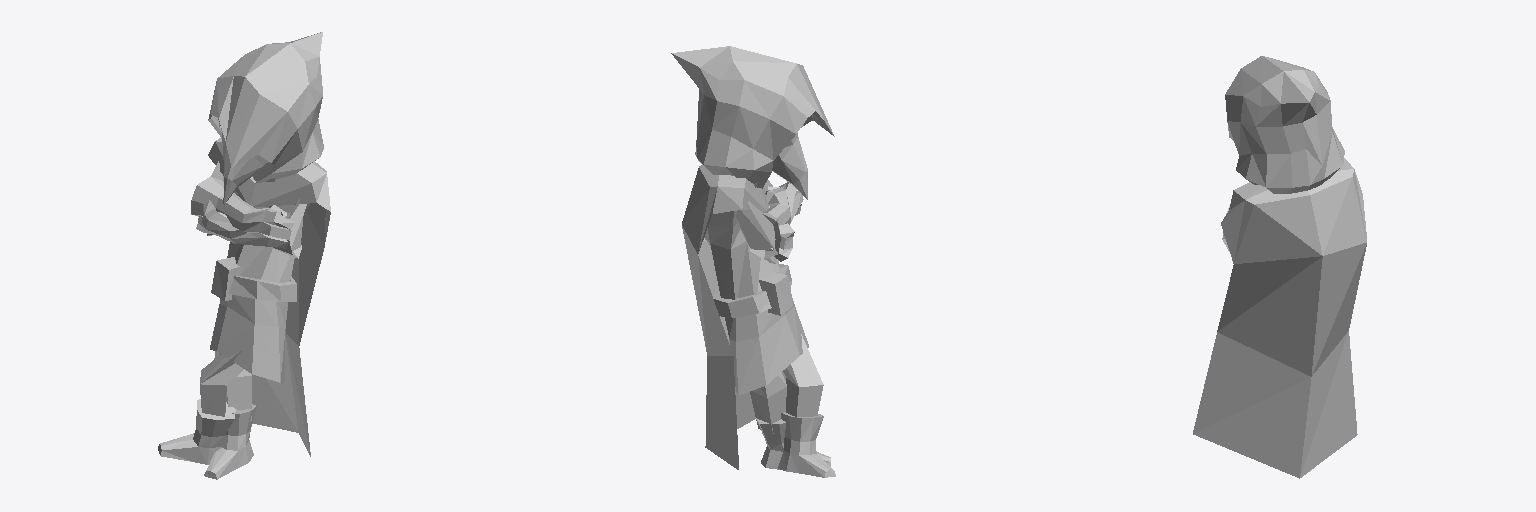
File: doctor.obj
3 renders of one model, left to right at view 1: azimuth 30°, elevation 25°; view 2: azimuth 150°, elevation 25°; view 3: azimuth 270°, elevation 25°, orthographic.
Parts seen in each view (by area): view 1: PlagueDoctor; view 2: PlagueDoctor; view 3: PlagueDoctor.
Part boxes in pixels (x1,y1,x2,y2): PlagueDoctor: (158,32,330,479); PlagueDoctor: (671,46,835,477); PlagueDoctor: (1193,56,1366,478).
Bounding box in the file's own units: 18.02 × 42.48 × 16.63.